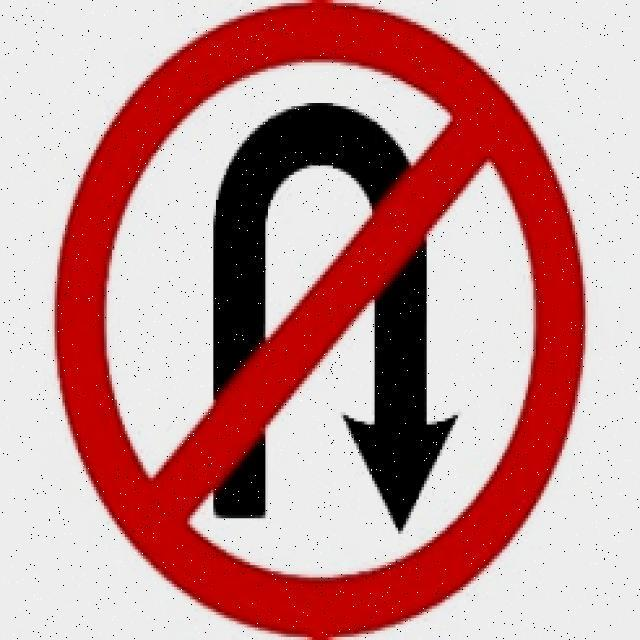Dilarang Putar Balik: (46, 0, 594, 640)
